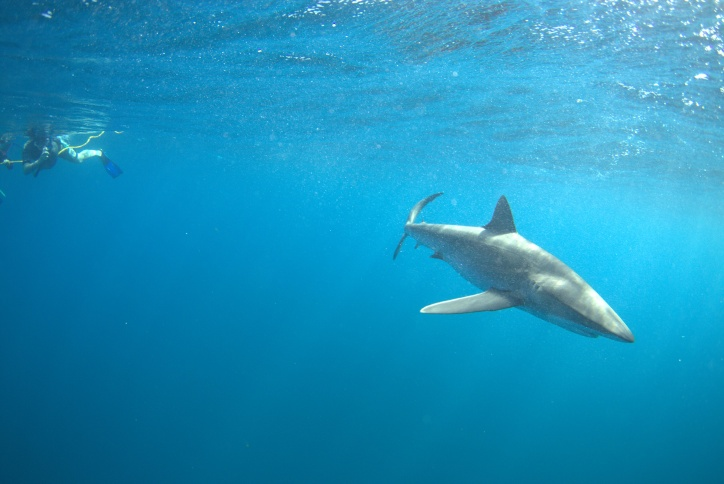Sedoso: (350, 172, 644, 358)
